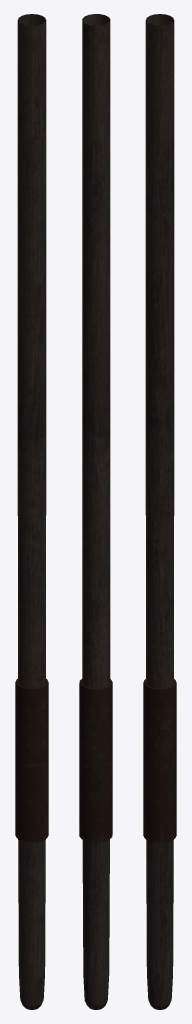
Rendered from wm_isengard_2h_axe_a01_handle.fbx.
The picture shows the model from 3 angles, left to right: view 1: azimuth 90°, elevation 25°; view 2: azimuth 210°, elevation 25°; view 3: azimuth 270°, elevation 25°; orthographic projection.
Parts seen in each view (by area): view 1: wm_isengard_2h_axe_a01_handle; view 2: wm_isengard_2h_axe_a01_handle; view 3: wm_isengard_2h_axe_a01_handle.
Part boxes in pixels (x1,y1,x2,y2): wm_isengard_2h_axe_a01_handle: (15, 14, 48, 1009); wm_isengard_2h_axe_a01_handle: (79, 14, 112, 1009); wm_isengard_2h_axe_a01_handle: (143, 14, 176, 1009).
Size of the model in its own units: 0.0448 by 0.0448 by 1.46.
1 material, 1 textured.
